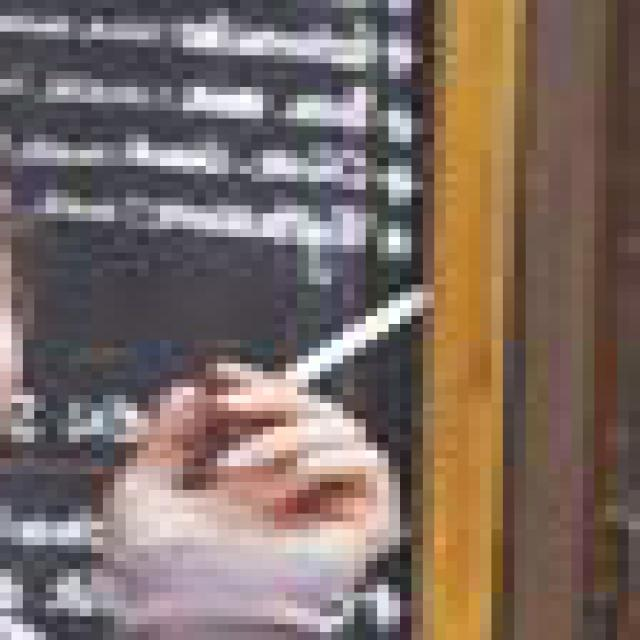smoking: (225, 282, 438, 424)
